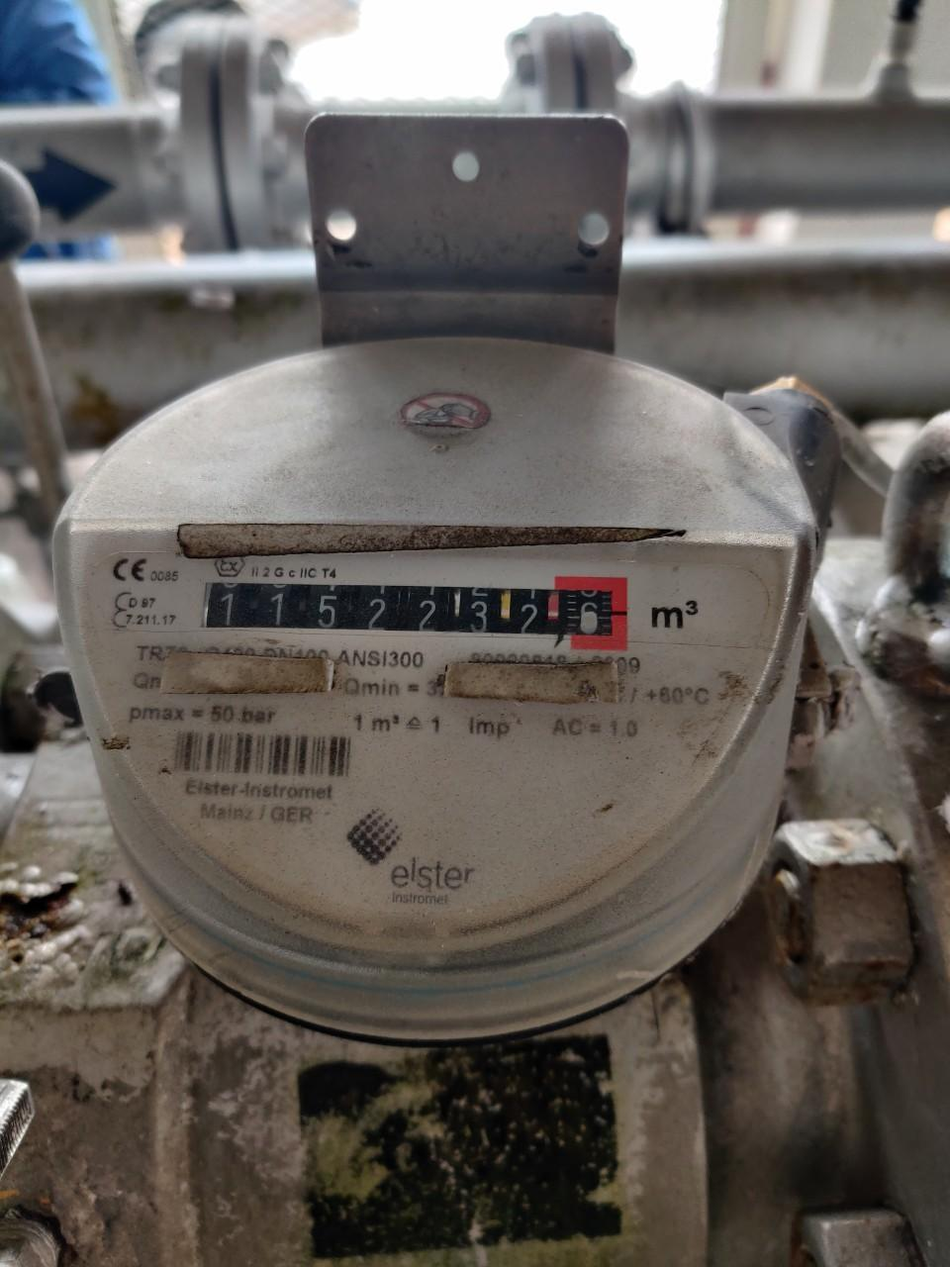analog_dial: (195, 572, 632, 656)
